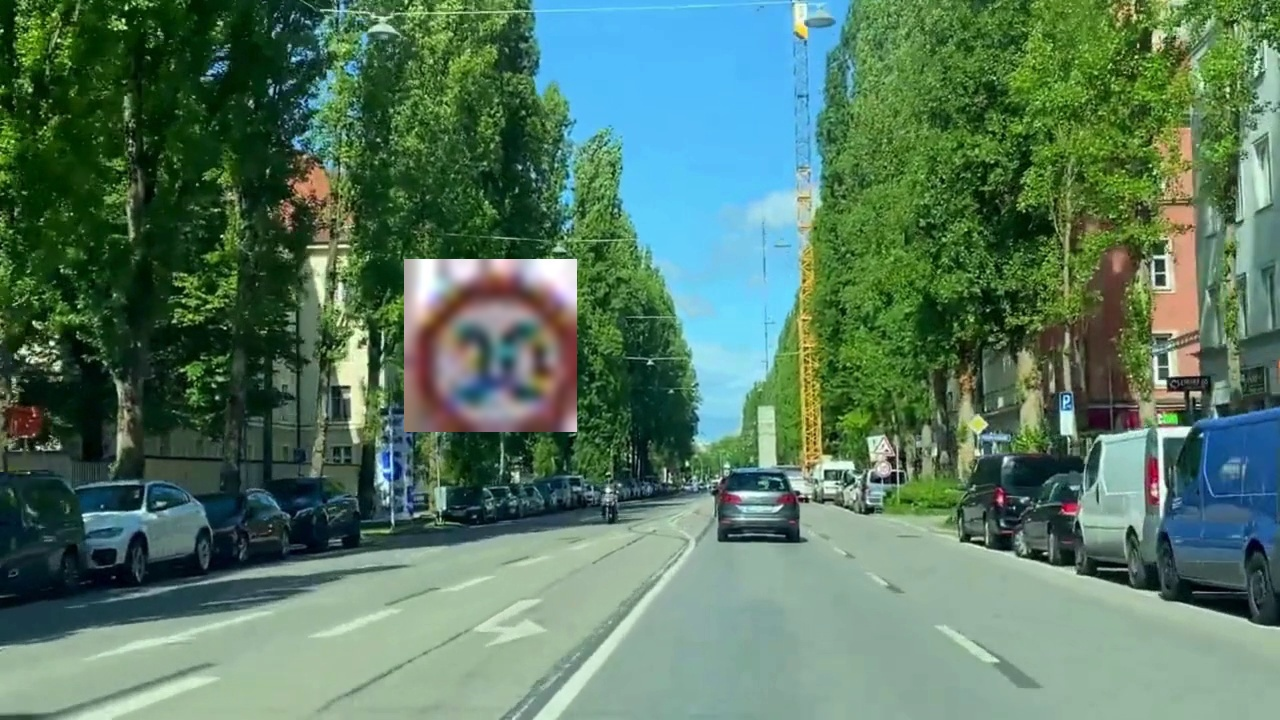Speed 30: (404, 259, 577, 432)
